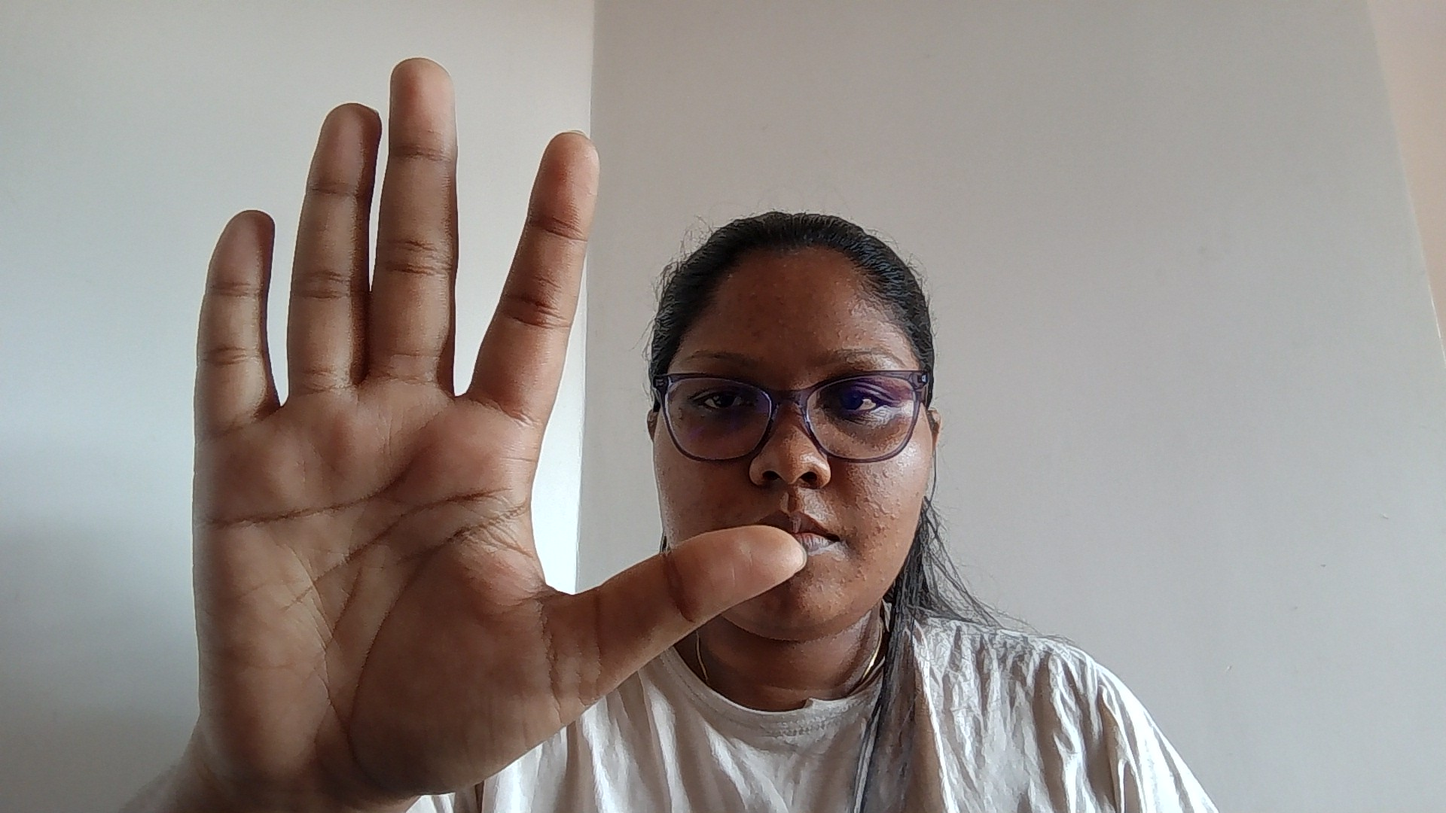Hello: (121, 79, 784, 801)
